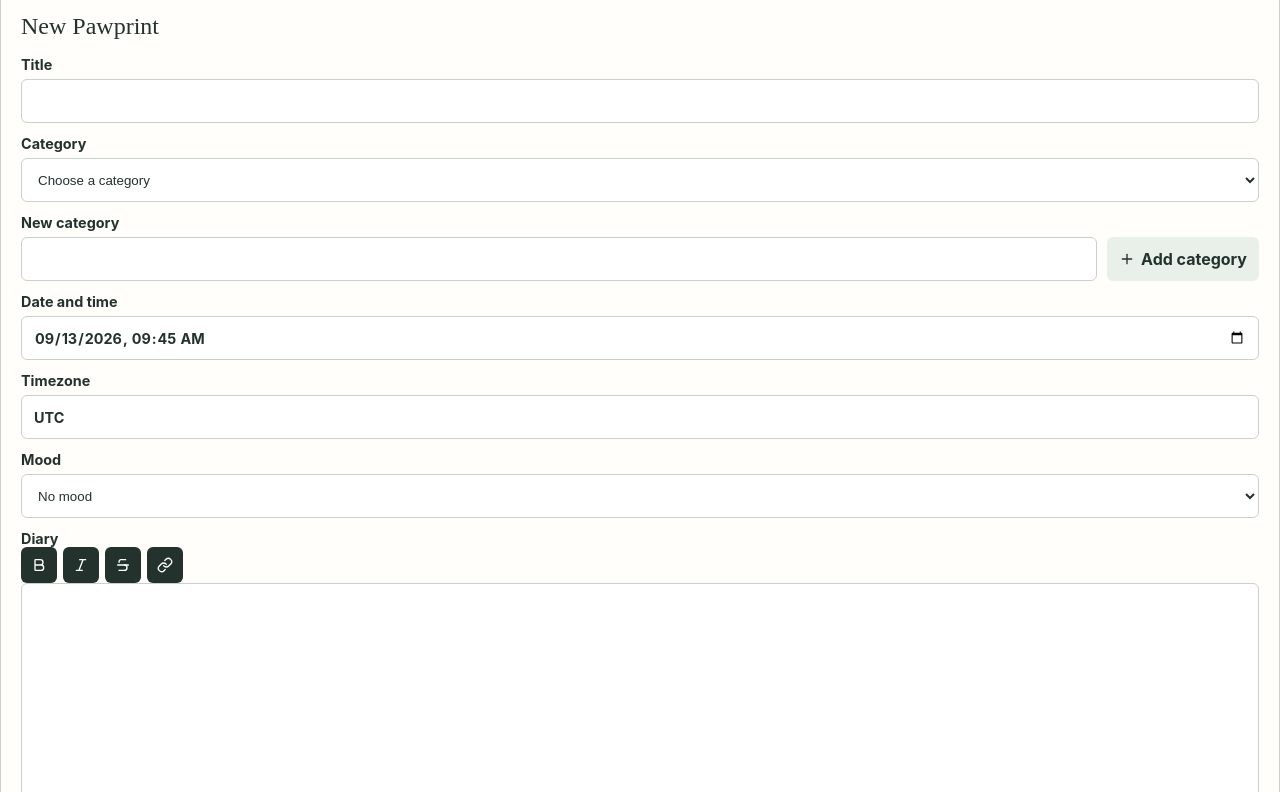
it: EventForm › shows a safe API validation failure
In the field labelled "Title": coordinates (640, 101) [21,79,1259,123], type "Morning run"
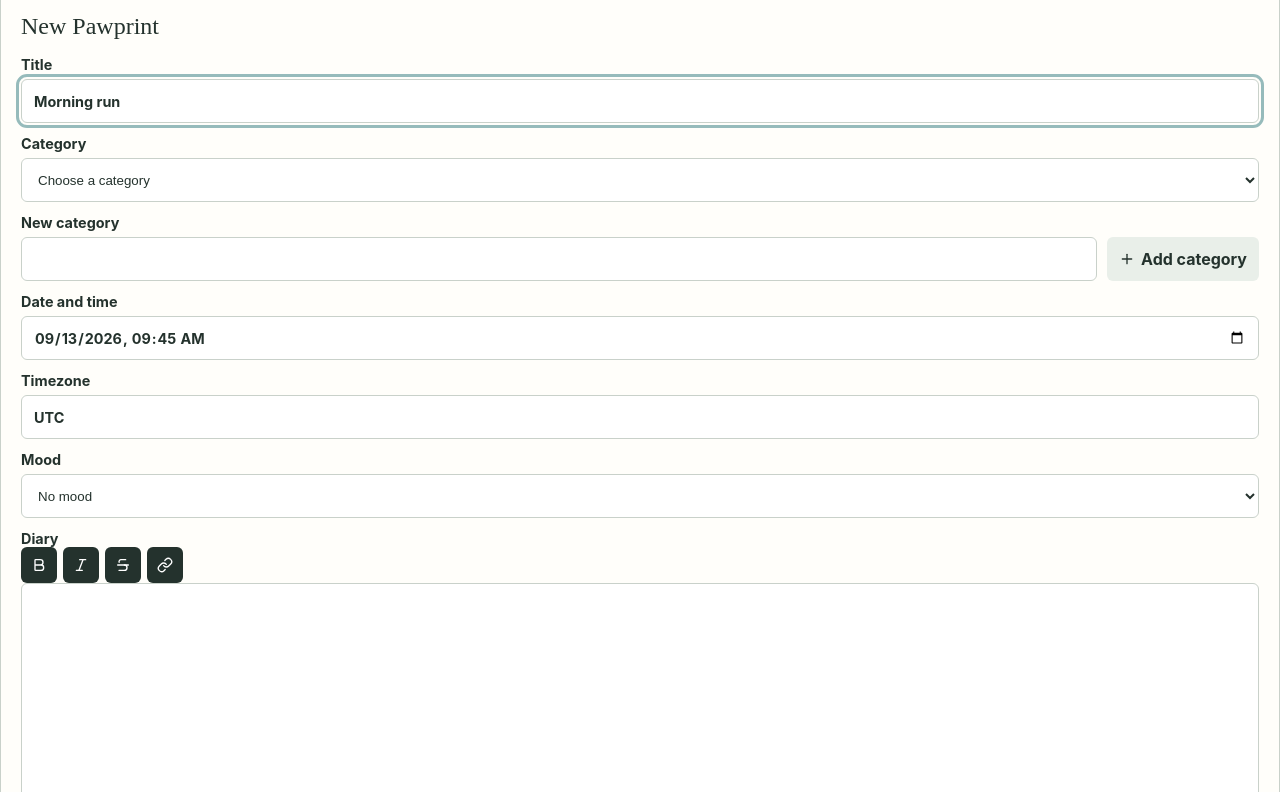
Select "Running" in the dropdown labelled "Category": coordinates (640, 180) [21,158,1259,202]
(page scrolled)
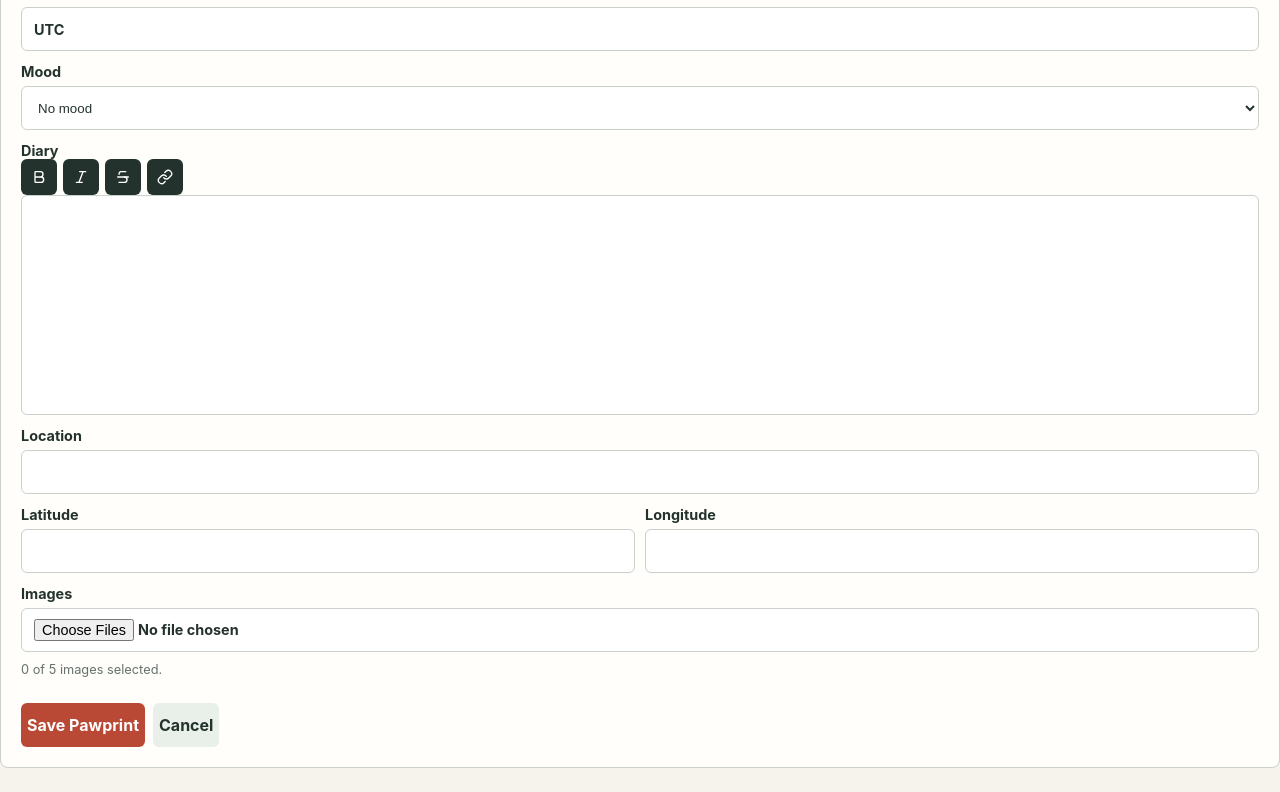
Click the button "Save Pawprint": coordinates (83, 725) [21,703,145,747]
(page scrolled)
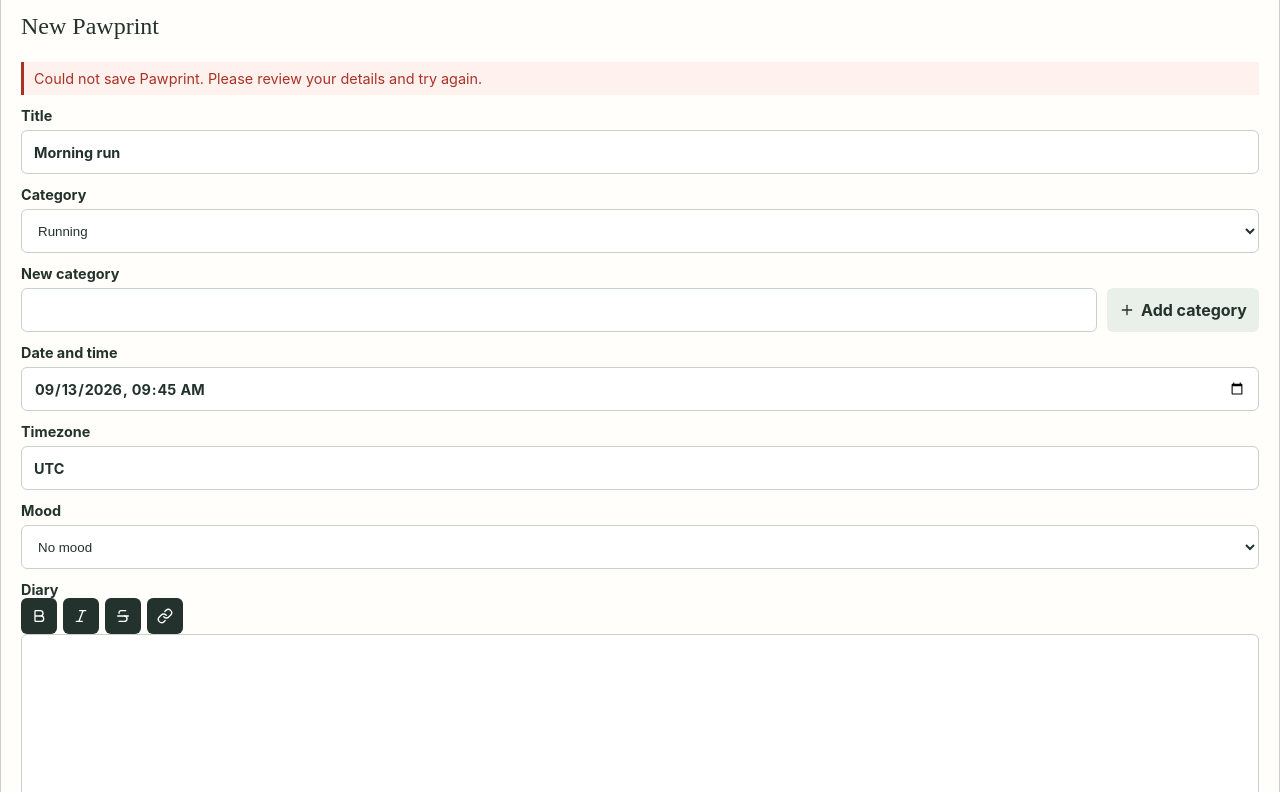
Expected: the message shows "Could not save Pawprint", [34,70,482,87]
